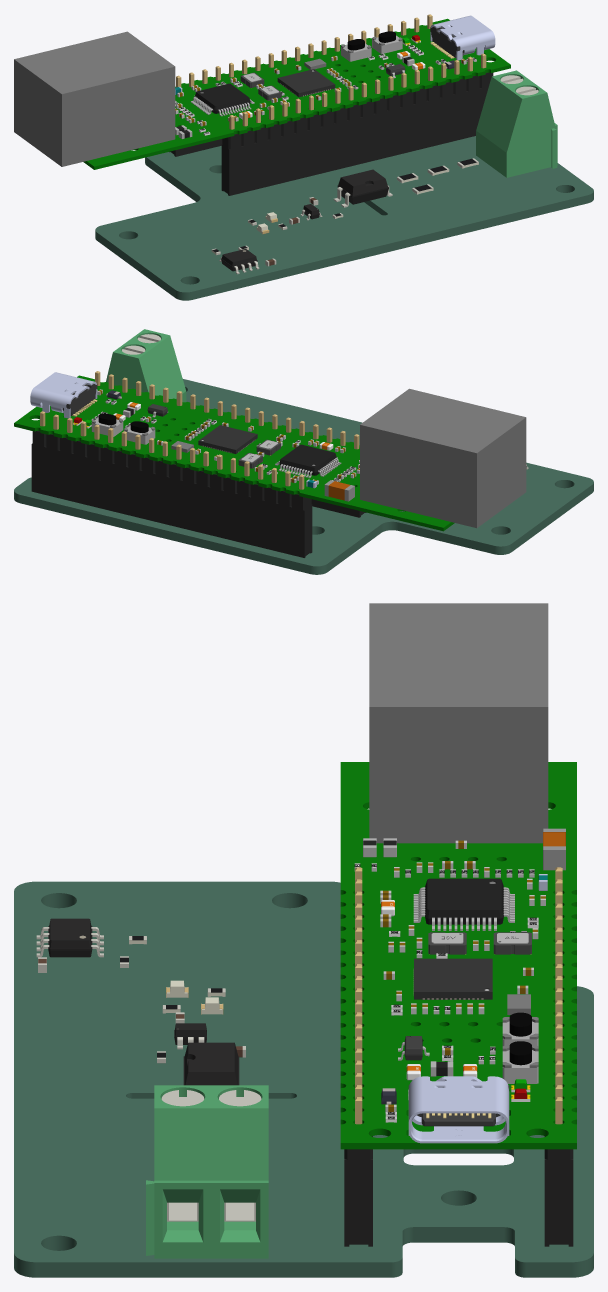
The model's file is pico-poe-mains-carrier-headers.glb.
3 views of the same model, one above another, from view 1: azimuth 30°, elevation 25°; view 2: azimuth 150°, elevation 25°; view 3: azimuth 270°, elevation 25° (orthographic). The views are drawn at different scales.
Visible parts, largest first — view 1: =>[0:1:1:180], =>[0:1:1:17], =>[0:1:1:175], =>[0:1:1:177] (×2), =>[0:1:1:179], =>[0:1:1:3], =>[0:1:1:13]; view 2: =>[0:1:1:17], =>[0:1:1:180], =>[0:1:1:175] (×2), =>[0:1:1:177] (×2), =>[0:1:1:179]; view 3: =>[0:1:1:180], =>[0:1:1:17], =>[0:1:1:179], =>[0:1:1:175] (×2), =>[0:1:1:177] (×2), =>[0:1:1:3], =>[0:1:1:13].
Boxes of the visible parts, left/top/right/bottom form: =>[0:1:1:180]: left=95, top=136, right=593, bottom=300; =>[0:1:1:17]: left=14, top=15, right=510, bottom=169; =>[0:1:1:175]: left=221, top=86, right=488, bottom=195; =>[0:1:1:177] (×2): left=176, top=14, right=493, bottom=149; =>[0:1:1:179]: left=476, top=70, right=557, bottom=177; =>[0:1:1:3]: left=333, top=169, right=392, bottom=207; =>[0:1:1:13]: left=219, top=249, right=259, bottom=274; =>[0:1:1:17]: left=14, top=372, right=526, bottom=531; =>[0:1:1:180]: left=14, top=379, right=593, bottom=574; =>[0:1:1:175] (×2): left=31, top=443, right=366, bottom=557; =>[0:1:1:177] (×2): left=32, top=371, right=359, bottom=509; =>[0:1:1:179]: left=106, top=329, right=186, bottom=402; =>[0:1:1:180]: left=14, top=881, right=593, bottom=1277; =>[0:1:1:17]: left=340, top=603, right=576, bottom=1149; =>[0:1:1:179]: left=146, top=1085, right=268, bottom=1258; =>[0:1:1:175] (×2): left=344, top=1159, right=573, bottom=1246; =>[0:1:1:177] (×2): left=344, top=867, right=573, bottom=1159; =>[0:1:1:3]: left=183, top=1042, right=239, bottom=1085; =>[0:1:1:13]: left=36, top=918, right=103, bottom=957.
Bounding box in the file's own units: 0.0852 × 0.0285 × 0.0515.
